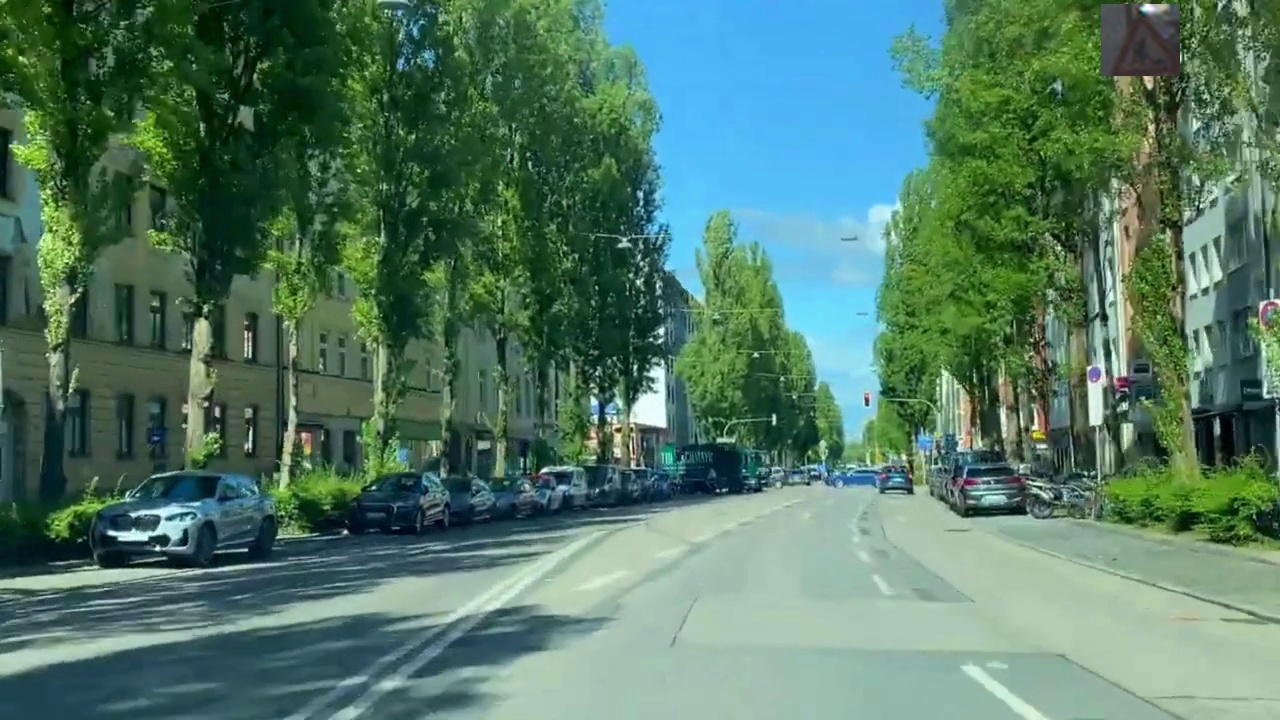Road work: (1101, 4, 1180, 76)
